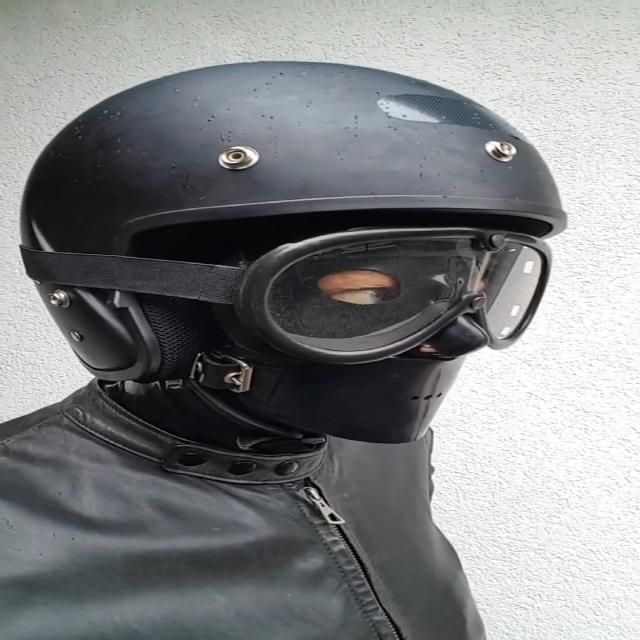Helmet_Wearer: (7, 51, 618, 487)
Jacket_Wearer: (0, 334, 525, 637)
Person: (2, 65, 526, 640)
